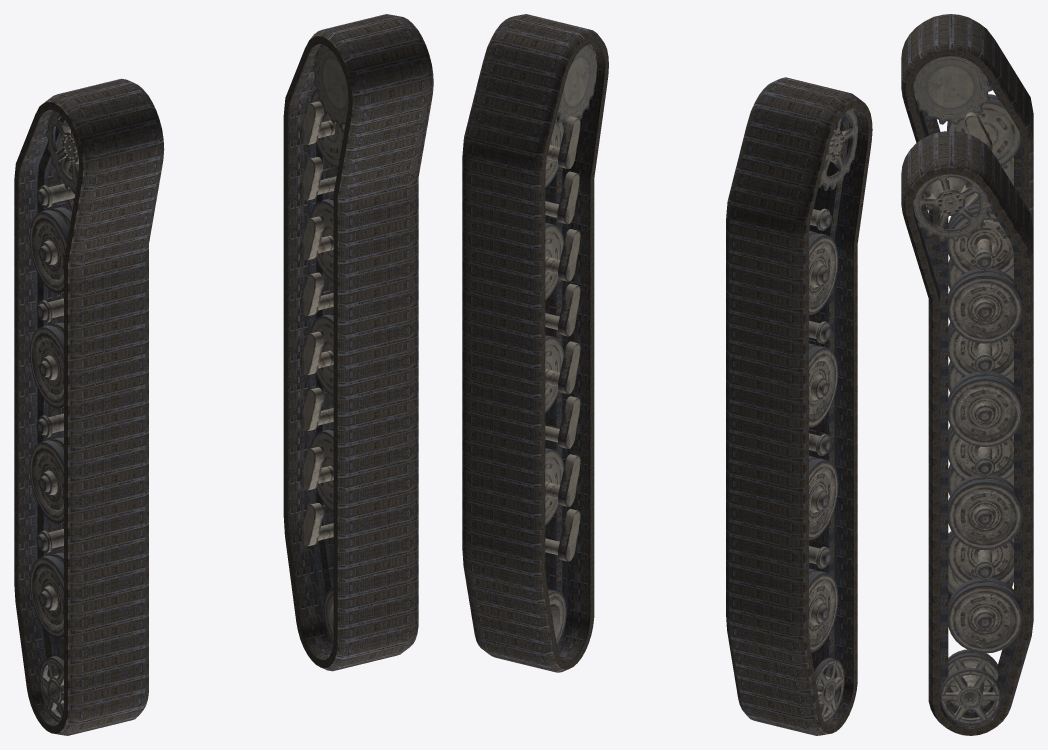
The model's file is Chassis.glb.
The picture shows the model from 3 angles, left to right: view 1: azimuth 30°, elevation 25°; view 2: azimuth 150°, elevation 25°; view 3: azimuth 270°, elevation 25°; orthographic projection. The views are drawn at different scales.
Parts seen in each view (by area): view 1: set_1_group_0, set_0_group_0, set_2_group_0, set_3_group_0; view 2: set_0_group_0, set_1_group_0, set_3_group_0, set_2_group_0; view 3: set_3_group_0, set_1_group_0, set_0_group_0, set_2_group_0.
Boxes of the visible parts, left/top/right/bottom form: set_1_group_0: left=283, top=14, right=433, bottom=671; set_0_group_0: left=14, top=78, right=164, bottom=735; set_2_group_0: left=29, top=110, right=78, bottom=722; set_3_group_0: left=299, top=44, right=348, bottom=642; set_0_group_0: left=726, top=77, right=872, bottom=735; set_1_group_0: left=462, top=14, right=608, bottom=672; set_3_group_0: left=545, top=44, right=597, bottom=645; set_2_group_0: left=808, top=109, right=857, bottom=722; set_3_group_0: left=913, top=174, right=1022, bottom=725; set_1_group_0: left=901, top=131, right=1033, bottom=735; set_0_group_0: left=901, top=14, right=1033, bottom=602; set_2_group_0: left=913, top=56, right=1021, bottom=594.
Bounding box in the file's own units: 3.9 × 6.83 × 1.42.
4 materials, 4 textured.
